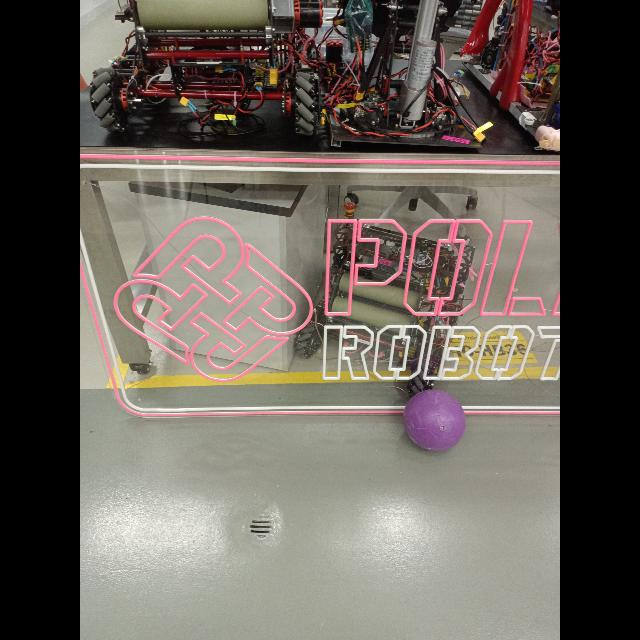P: (404, 390, 466, 452)
